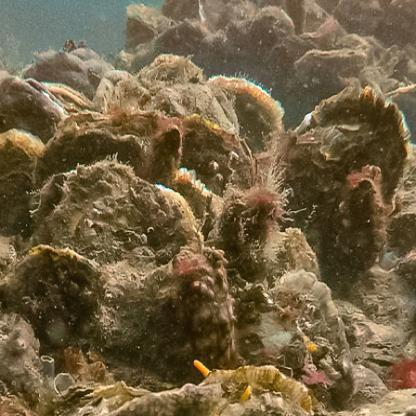Oyster-Closed: (47, 161, 198, 269), (297, 89, 411, 219), (38, 116, 184, 210), (0, 247, 108, 371), (143, 249, 237, 386), (269, 273, 350, 405), (205, 74, 284, 184), (273, 128, 358, 228), (333, 165, 391, 267), (202, 364, 315, 416), (0, 131, 40, 228), (292, 47, 365, 97), (116, 384, 226, 416), (167, 84, 232, 130), (22, 52, 94, 90), (134, 54, 201, 92), (249, 8, 294, 54), (386, 212, 416, 256), (129, 2, 175, 30)
Oyster-Open: (0, 73, 64, 141)
